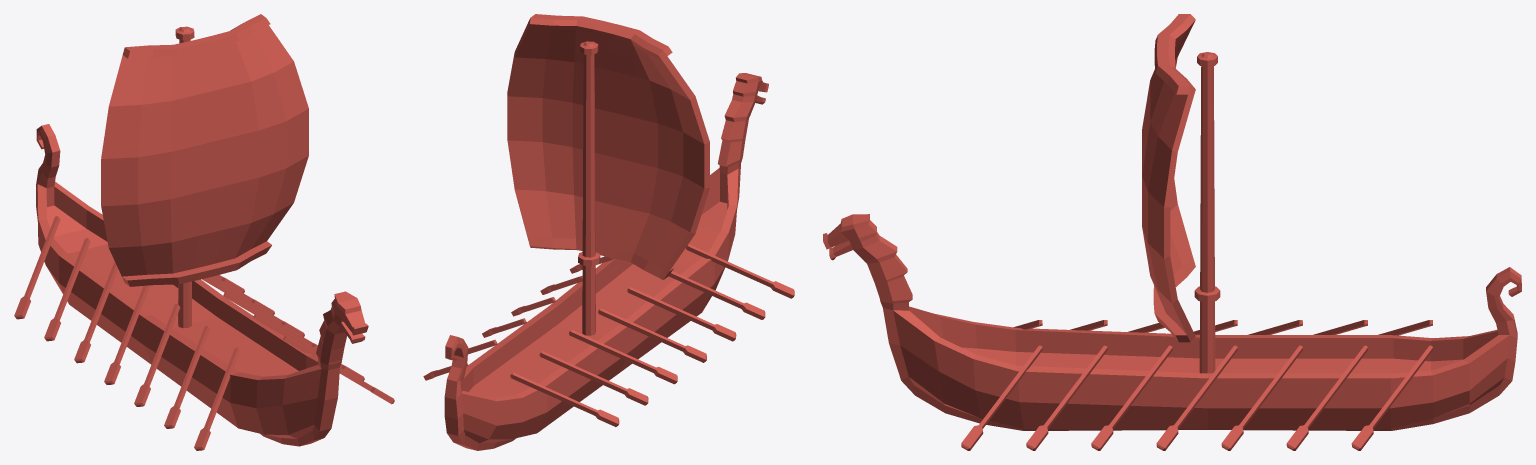
Rendered from quaternius-viking-boat.glb.
3 views of the same model, side by side, from view 1: azimuth 30°, elevation 25°; view 2: azimuth 150°, elevation 25°; view 3: azimuth 270°, elevation 25° (orthographic). The views are drawn at different scales.
Parts seen in each view (by area): view 1: Sail_Plane; view 2: Sail_Plane; view 3: Sail_Plane.
Boxes of the visible parts, x1=… form: Sail_Plane: x1=14, y1=14, x2=394, y2=450; Sail_Plane: x1=423, y1=14, x2=794, y2=450; Sail_Plane: x1=823, y1=14, x2=1521, y2=450.
Size of the model in its own units: 0.373 by 0.5972 by 1.
